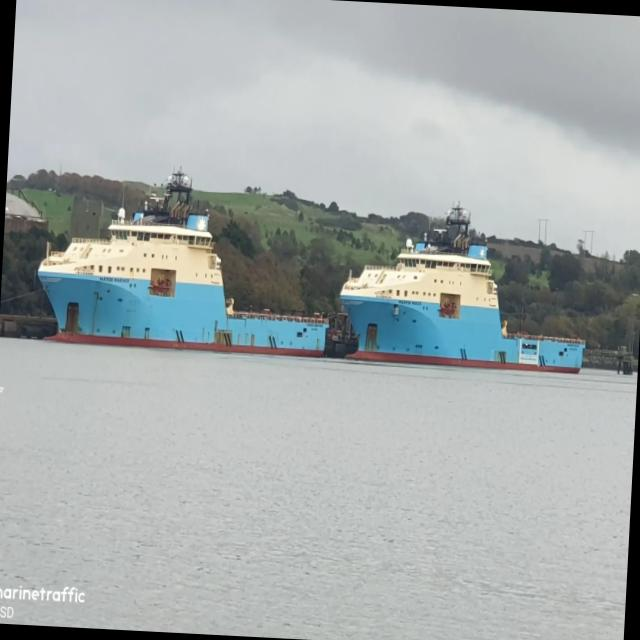Offshore: (38, 171, 329, 356), (341, 208, 584, 371)
